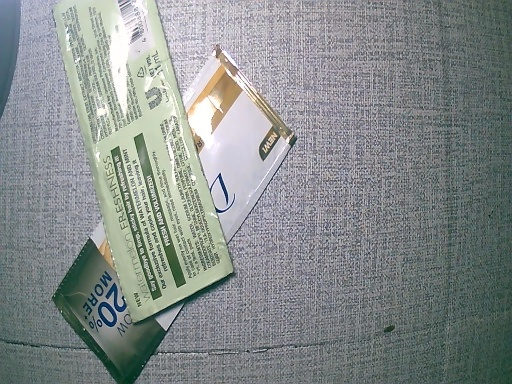plastic: (51, 46, 307, 384), (49, 1, 241, 326)
